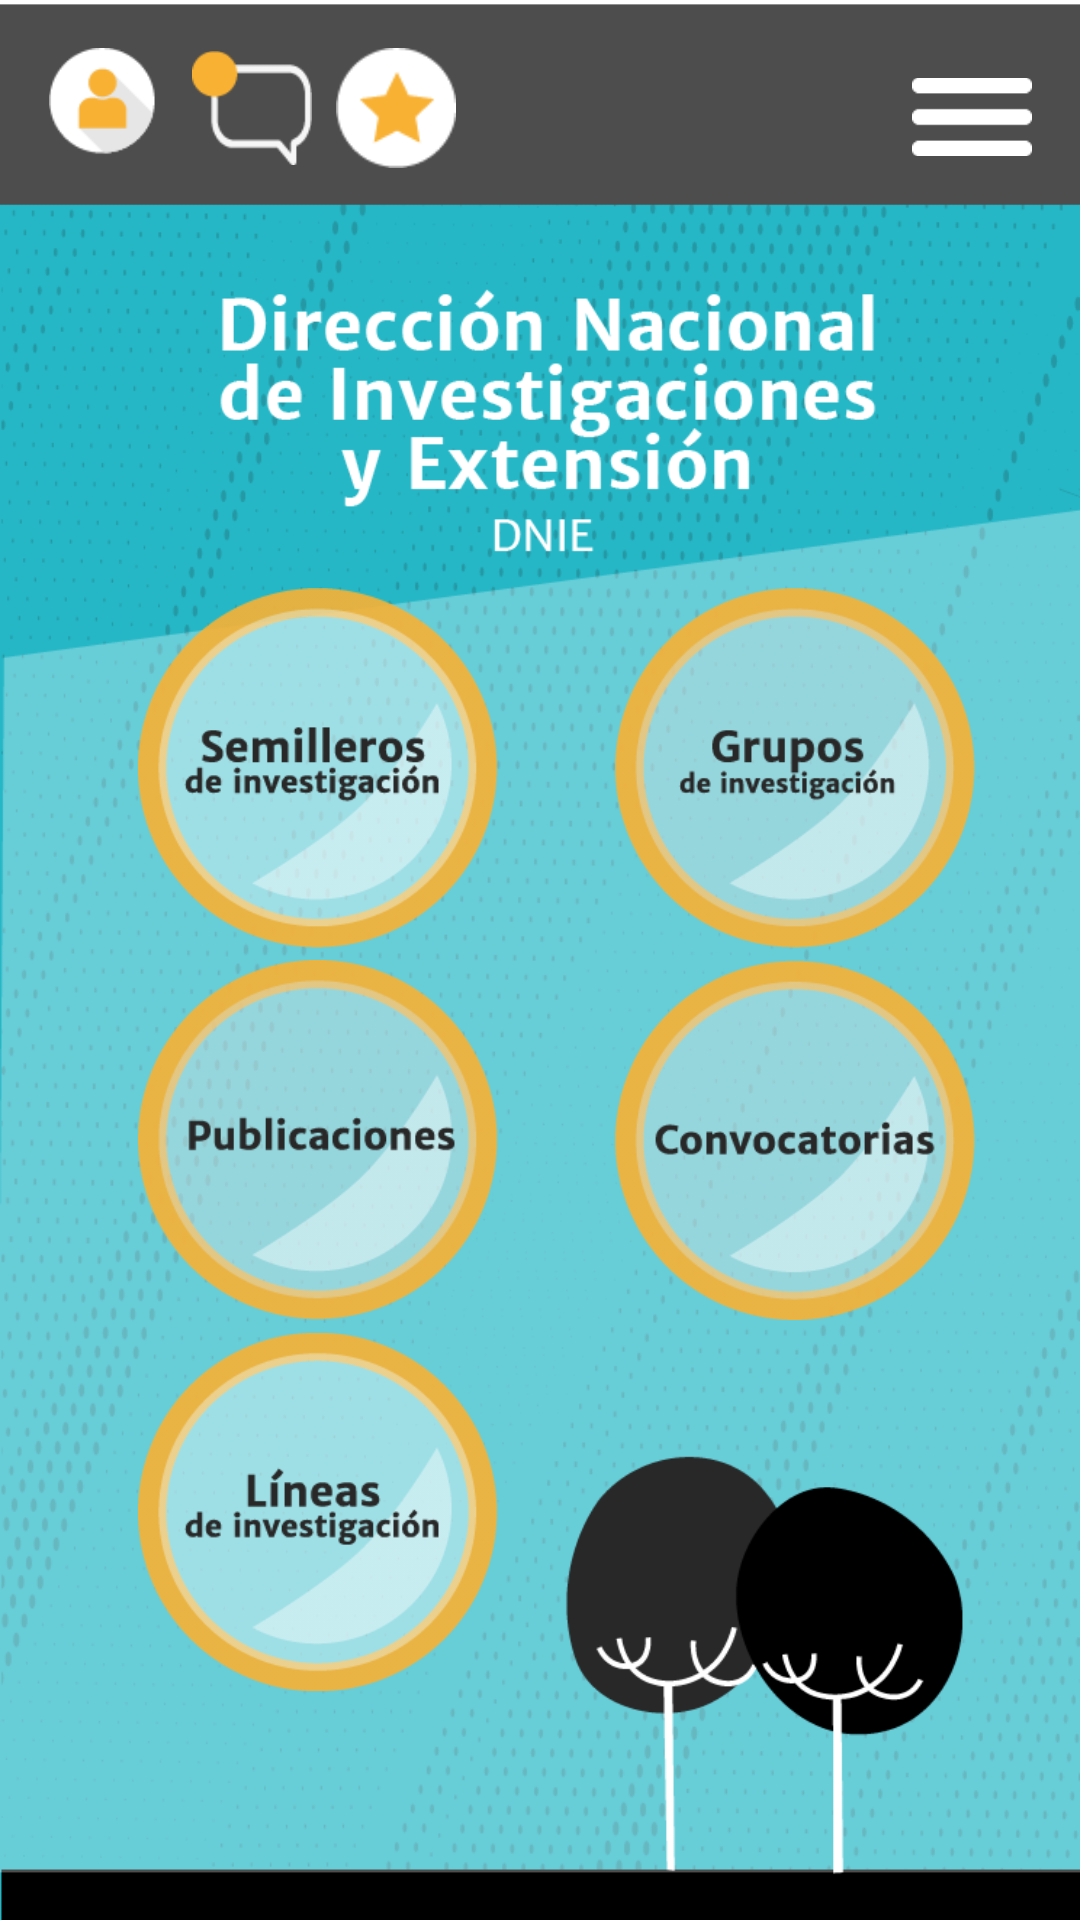

Named icons in this screenshot (1080×1920) and their bounding boxes, (x1, y1, x2, y2):
estrella: (336, 48, 456, 168)
login: (49, 48, 155, 154)
mensaje: (192, 51, 312, 165)
tres lineas: (912, 78, 1032, 156)
